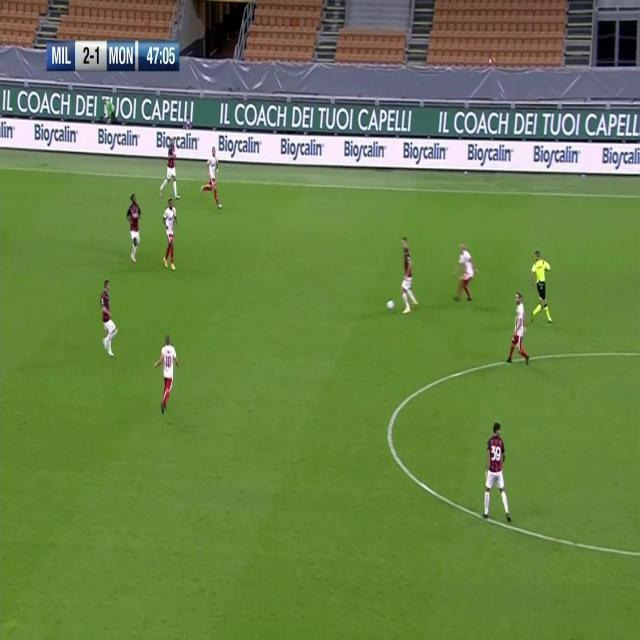ball: (386, 297, 396, 311)
player: (482, 419, 513, 524), (154, 332, 180, 418), (506, 292, 531, 367), (397, 236, 419, 314), (99, 277, 119, 360), (201, 144, 224, 213), (454, 243, 479, 304), (159, 136, 180, 200), (161, 196, 178, 272), (126, 193, 142, 265)
referee: (530, 247, 555, 326)
